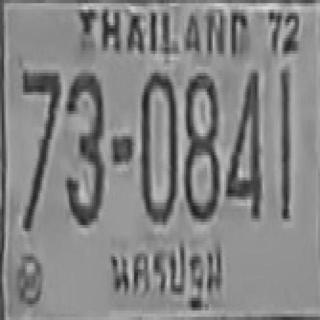N00: (140, 71, 176, 220)
N01: (279, 66, 290, 218)
N03: (63, 70, 103, 222)
N04: (224, 68, 261, 217)
N07: (21, 70, 59, 228), (21, 70, 59, 181)
N08: (184, 70, 218, 219)
P28: (106, 238, 225, 314)
